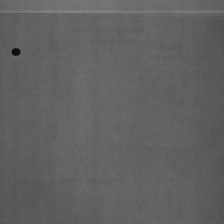punching_hole: (0, 7, 222, 19), (10, 45, 22, 58)
